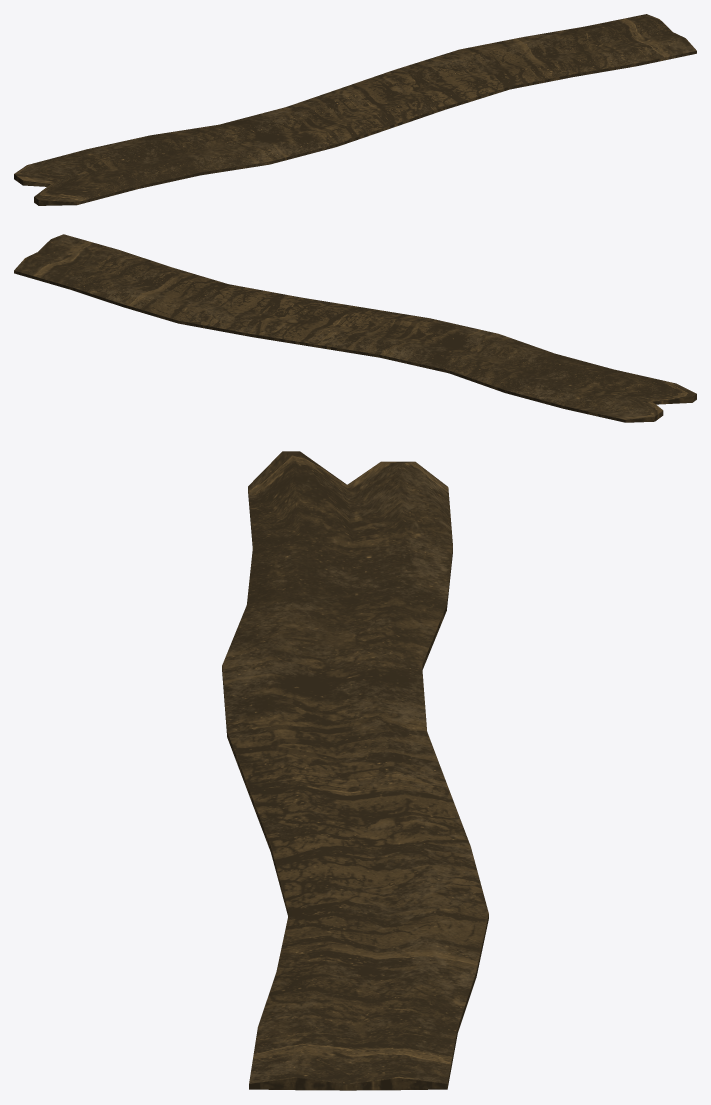
Rendered from Path 1.fbx.
3 views of the same model, one above another, from view 1: azimuth 30°, elevation 25°; view 2: azimuth 150°, elevation 25°; view 3: azimuth 270°, elevation 25° (orthographic). The views are drawn at different scales.
Visible parts, largest first — view 1: Plane.003; view 2: Plane.003; view 3: Plane.003.
Boxes of the visible parts, left/top/right/bottom form: Plane.003: left=14, top=14, right=696, bottom=205; Plane.003: left=14, top=234, right=696, bottom=422; Plane.003: left=222, top=451, right=488, bottom=1090.
Size of the model in its own units: 3827 by 40.48 by 688.
